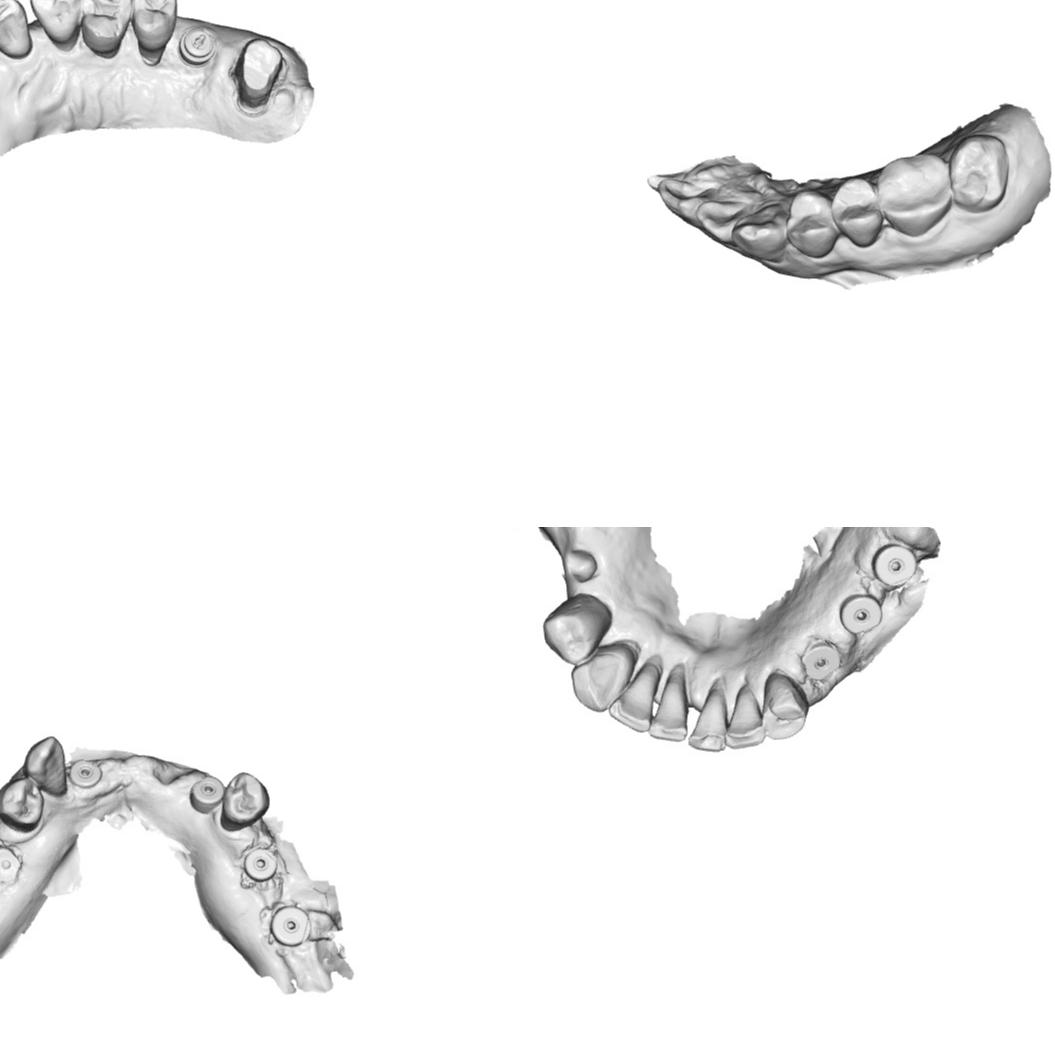canine: (727, 198, 796, 265), (568, 649, 630, 715), (759, 669, 807, 742), (21, 733, 73, 797), (26, 0, 85, 54)
crown: (230, 34, 288, 116)
implant: (871, 538, 917, 589), (266, 901, 313, 949), (837, 590, 883, 637), (798, 636, 845, 682), (240, 841, 283, 884), (67, 756, 109, 794), (0, 840, 30, 890), (190, 774, 221, 810)
implant_minus: (176, 21, 219, 71)
incisor: (694, 189, 756, 247), (606, 666, 657, 735), (656, 172, 716, 229), (646, 674, 692, 743), (723, 690, 768, 752), (688, 692, 728, 753), (0, 0, 33, 61)
molar: (871, 151, 953, 239), (946, 131, 1013, 218)
premolar: (539, 593, 612, 666), (830, 175, 884, 250), (786, 190, 840, 261), (78, 0, 134, 55), (220, 769, 271, 829), (0, 773, 45, 834), (131, 0, 180, 54)
